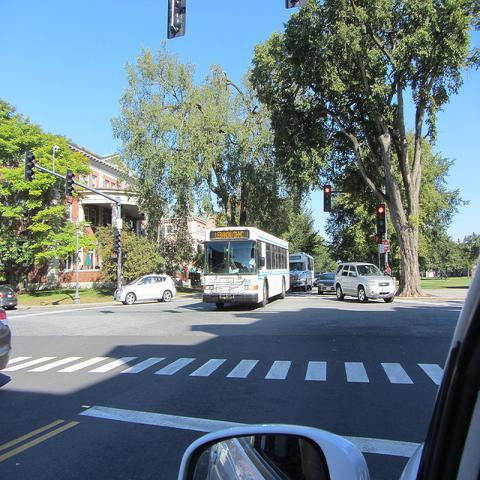bus: (201, 227, 292, 310), (289, 252, 316, 291)
car: (179, 258, 479, 476), (333, 263, 397, 303), (114, 275, 177, 304), (0, 308, 12, 371), (317, 272, 336, 298), (0, 287, 18, 312)
truck: (332, 263, 396, 302)
